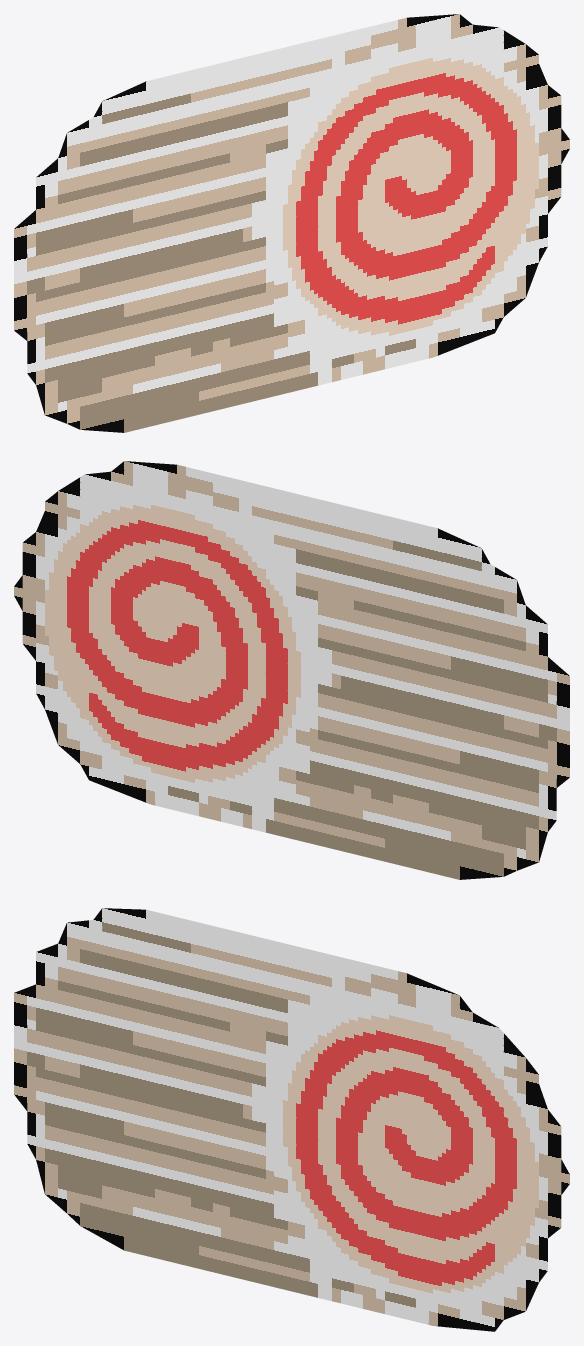
Rendered from ps2_save-icons_hanjukuhero47ninnohanjukuhero.glb.
The picture shows the model from 3 angles, top to bottom: view 1: azimuth 30°, elevation 25°; view 2: azimuth 150°, elevation 25°; view 3: azimuth 330°, elevation 25°; orthographic projection.
Visible parts, largest first — view 1: nrticon.bin; view 2: nrticon.bin; view 3: nrticon.bin.
Boxes of the visible parts, box(x1,y1,x2,y2) form: nrticon.bin: box(14, 14, 569, 432); nrticon.bin: box(14, 461, 569, 879); nrticon.bin: box(14, 908, 569, 1331).
Bounding box in the file's own units: 4.92 × 2.93 × 0.
Materials: 1 (1 with a texture image).
